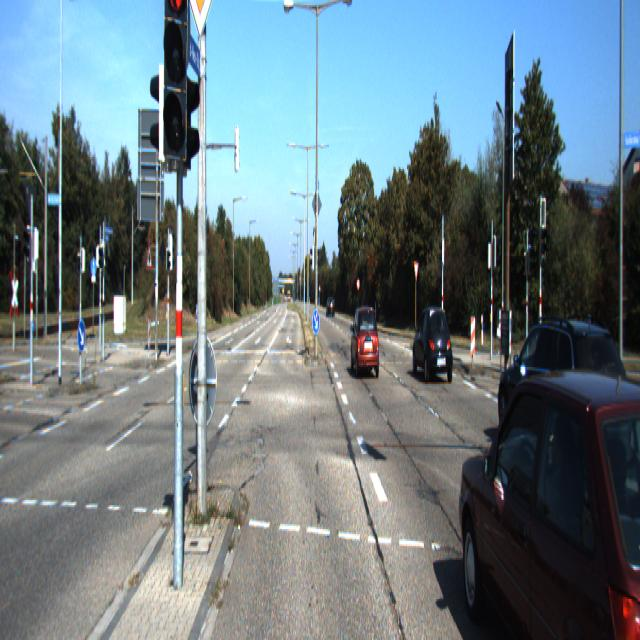Car: (458, 348, 639, 638), (498, 310, 634, 491), (412, 304, 453, 386), (351, 305, 380, 380)
DontCare: (326, 294, 334, 316)
